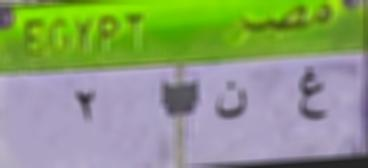2: (58, 82, 113, 126)
ghayn: (291, 59, 329, 134)
noon: (214, 74, 251, 129)
